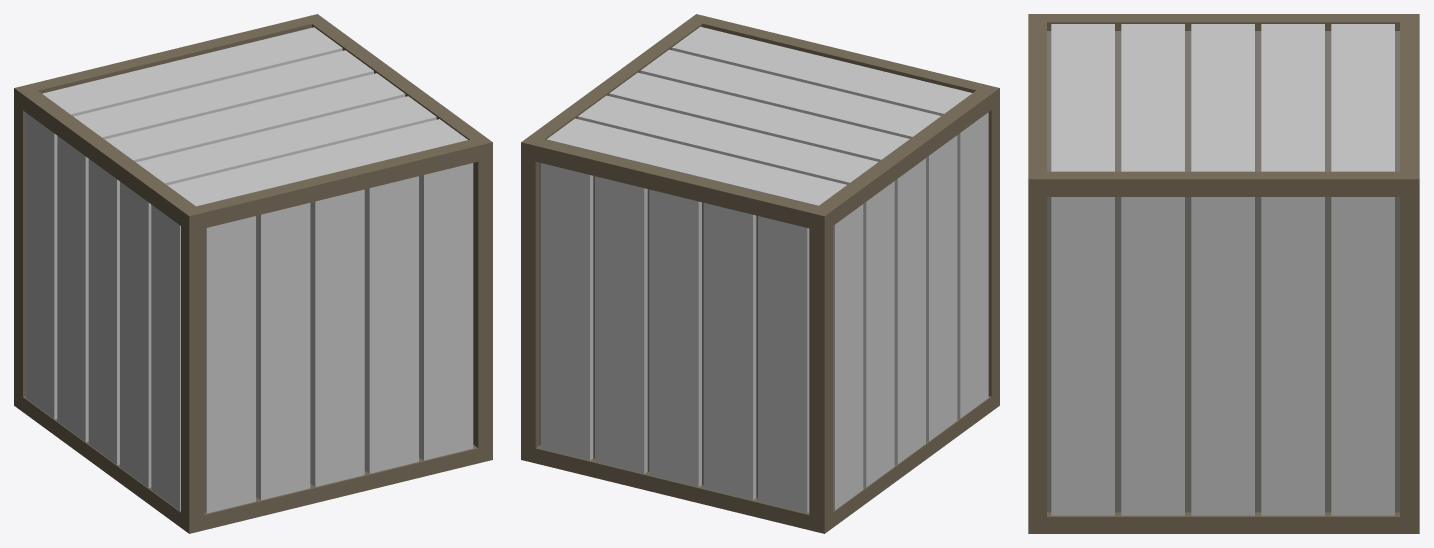
Rendered from crate.fbx.
The picture shows the model from 3 angles, left to right: view 1: azimuth 30°, elevation 25°; view 2: azimuth 150°, elevation 25°; view 3: azimuth 270°, elevation 25°; orthographic projection. The views are drawn at different scales.
Parts seen in each view (by area): view 1: Cube.001, Cube.002, Cube, Cube.003; view 2: Cube.001, Cube, Cube.002, Cube.003; view 3: Cube.002, Cube, Cube.003.
Part boxes in pixels (box(x1,y1,x2,y2)): Cube.001: box(204, 163, 473, 513); Cube.002: box(26, 113, 180, 510); Cube: box(14, 14, 492, 533); Cube.003: box(42, 27, 467, 206); Cube.001: box(540, 163, 809, 513); Cube: box(521, 14, 999, 533); Cube.002: box(833, 112, 988, 510); Cube.003: box(546, 26, 972, 205); Cube.002: box(1051, 197, 1394, 515); Cube: box(1028, 14, 1419, 533); Cube.003: box(1051, 24, 1394, 171).
Size of the model in its own units: 200 by 200 by 200.
